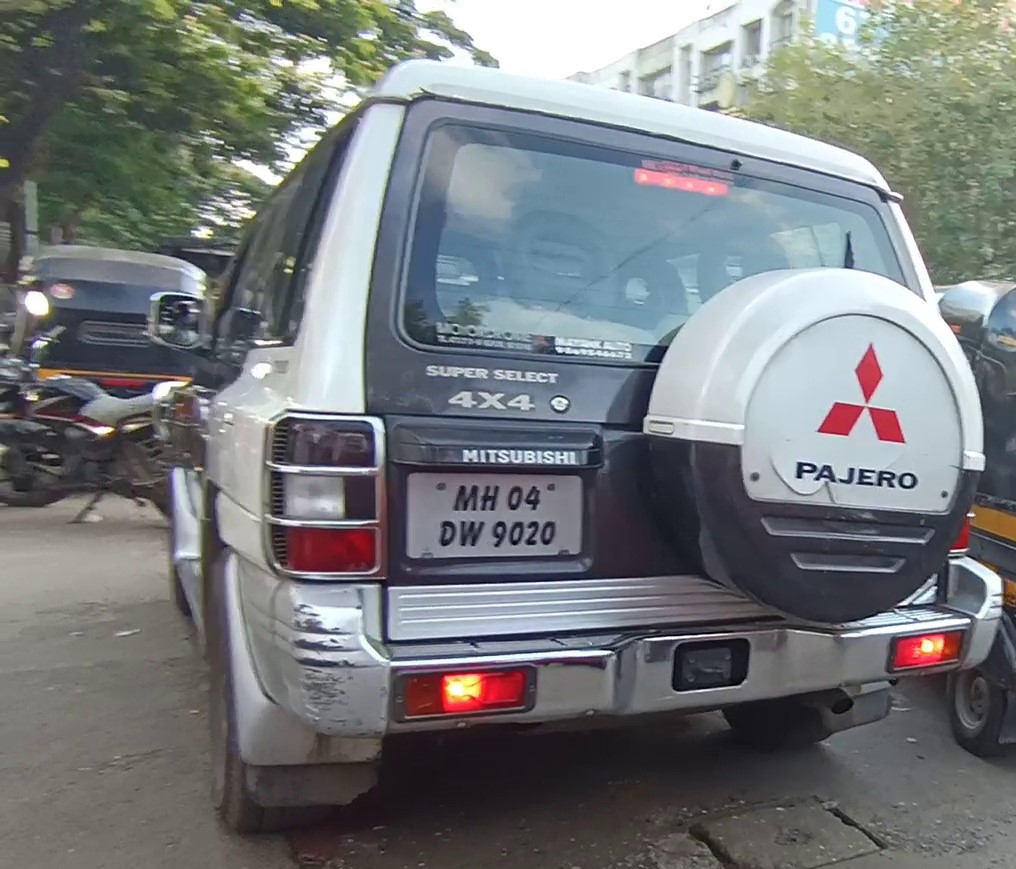MH04DW9020: (401, 471, 587, 560)
